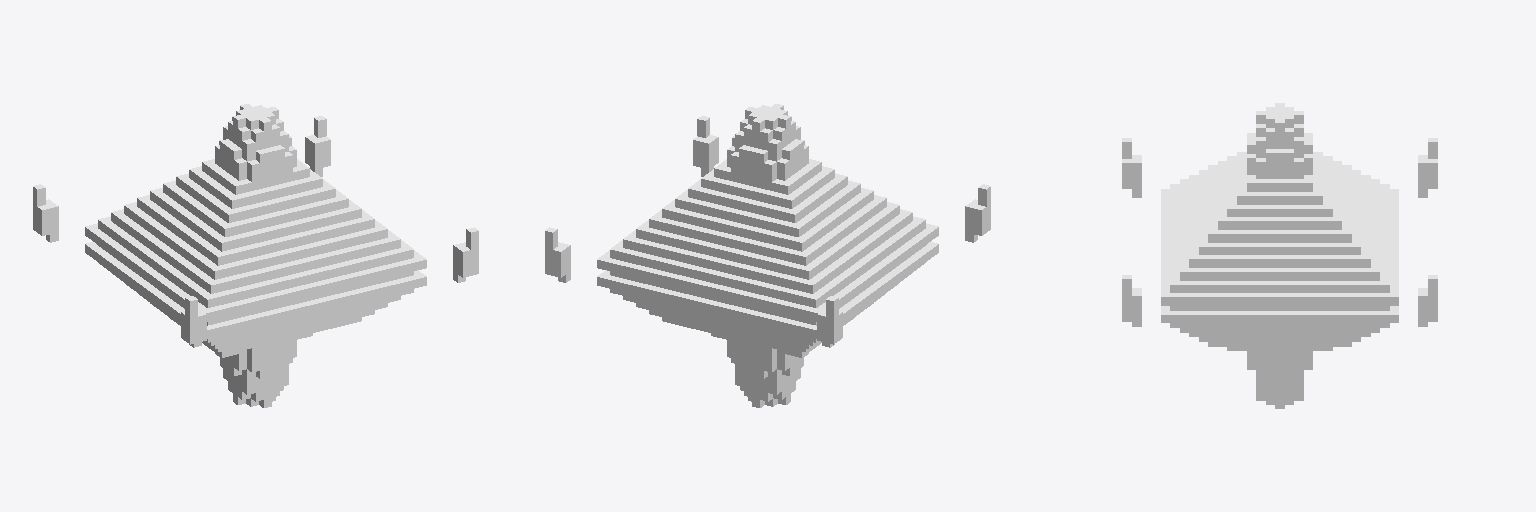
Rendered from Prism.obj.
3 views of the same model, side by side, from view 1: azimuth 30°, elevation 25°; view 2: azimuth 150°, elevation 25°; view 3: azimuth 270°, elevation 25° (orthographic).
Size of the model in its own units: 35 by 33 by 33.